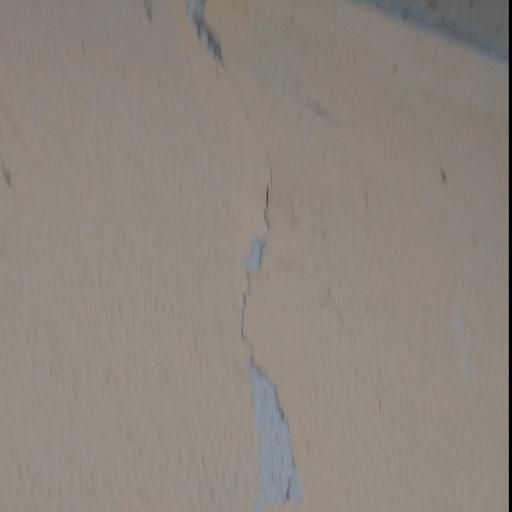peeling: (191, 141, 333, 512), (114, 0, 260, 93)
